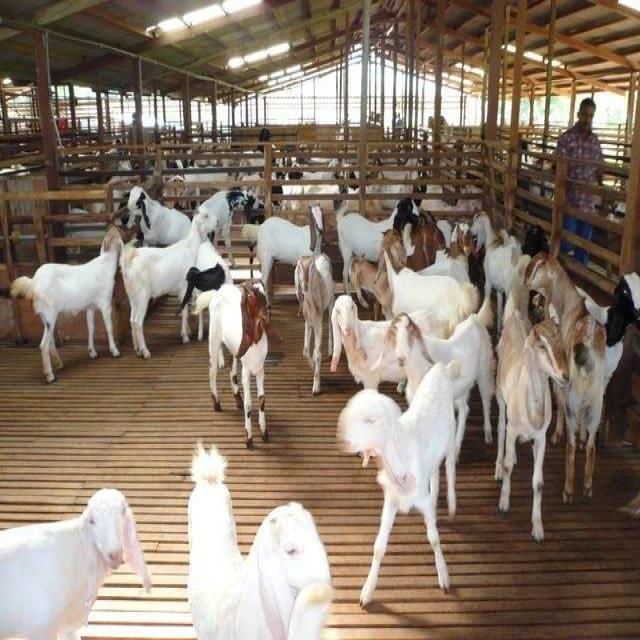Goat: (335, 357, 459, 608), (185, 440, 334, 639), (0, 487, 152, 639), (9, 231, 122, 383)
